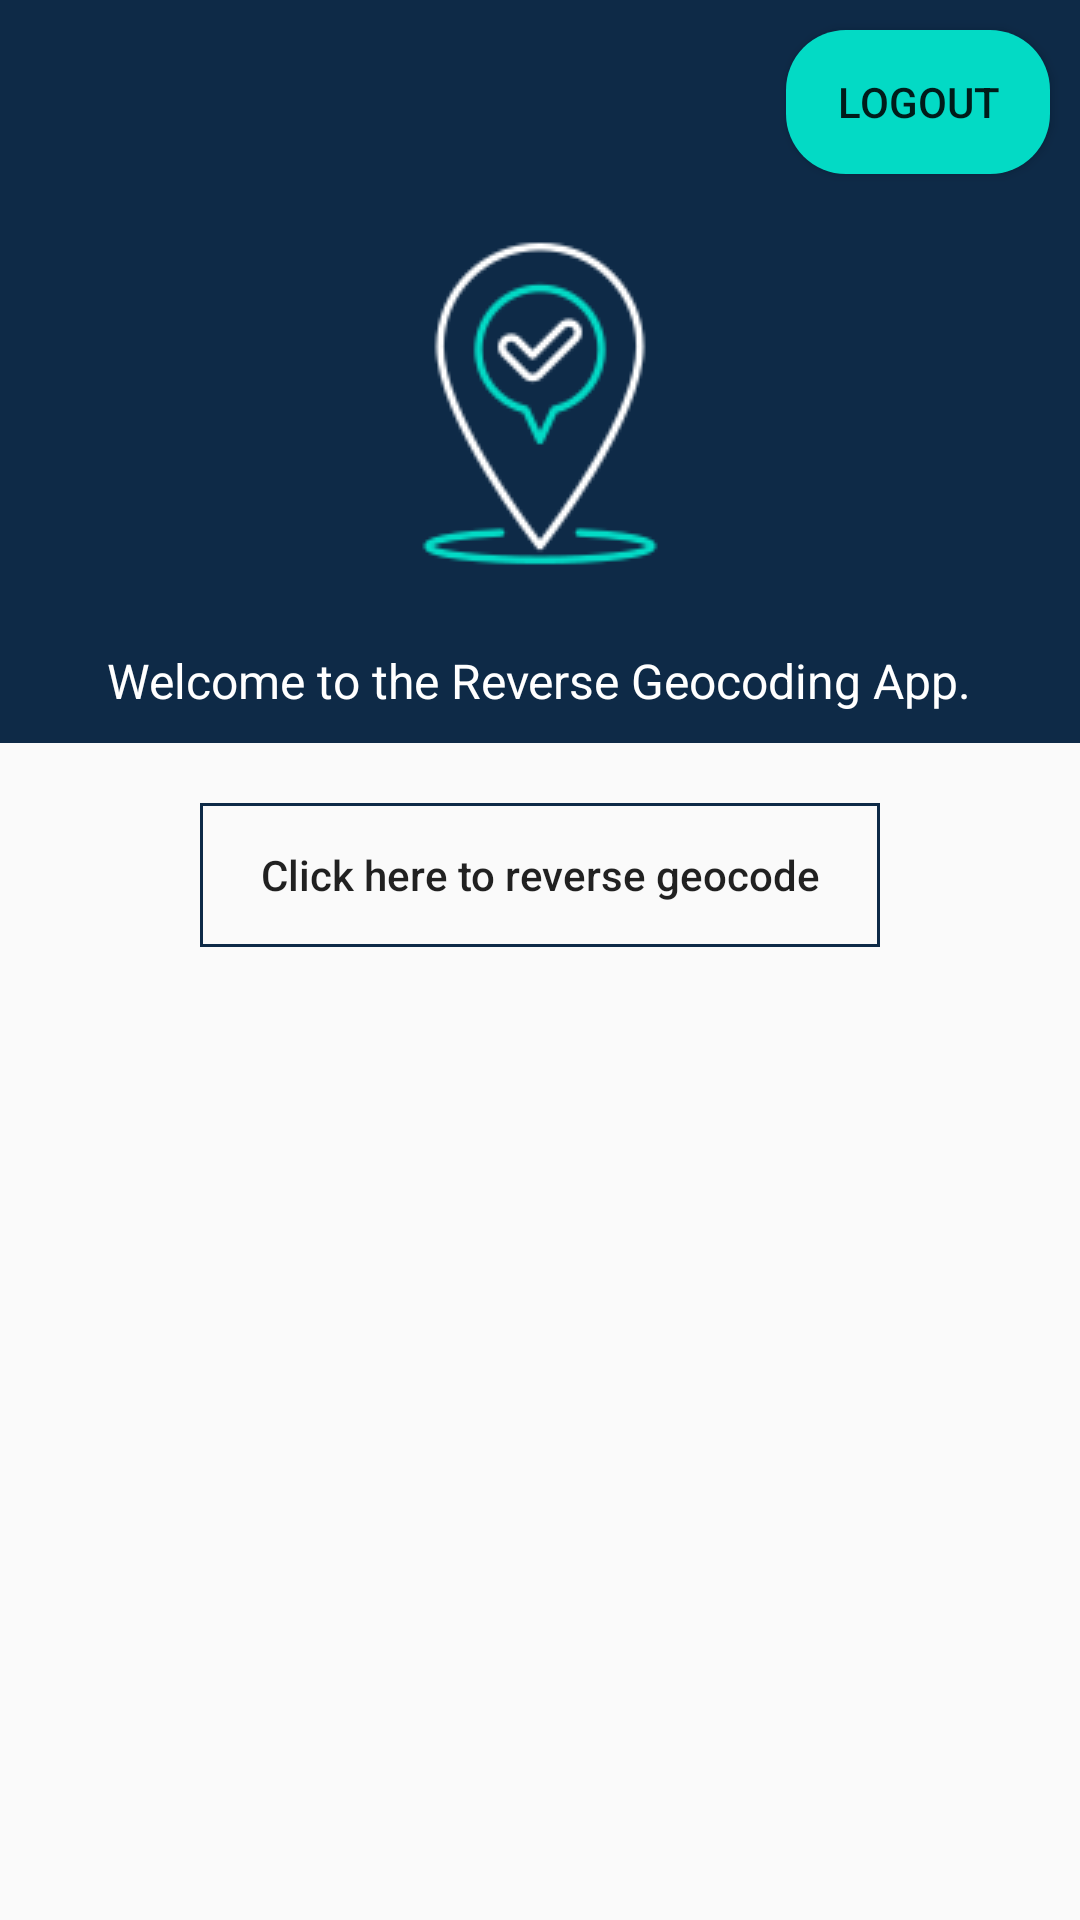

Named icons in this screenshot (1080 x 1920) and their bounding boxes, (x1, y1, x2, y2):
geotag: (422, 242, 658, 565)
